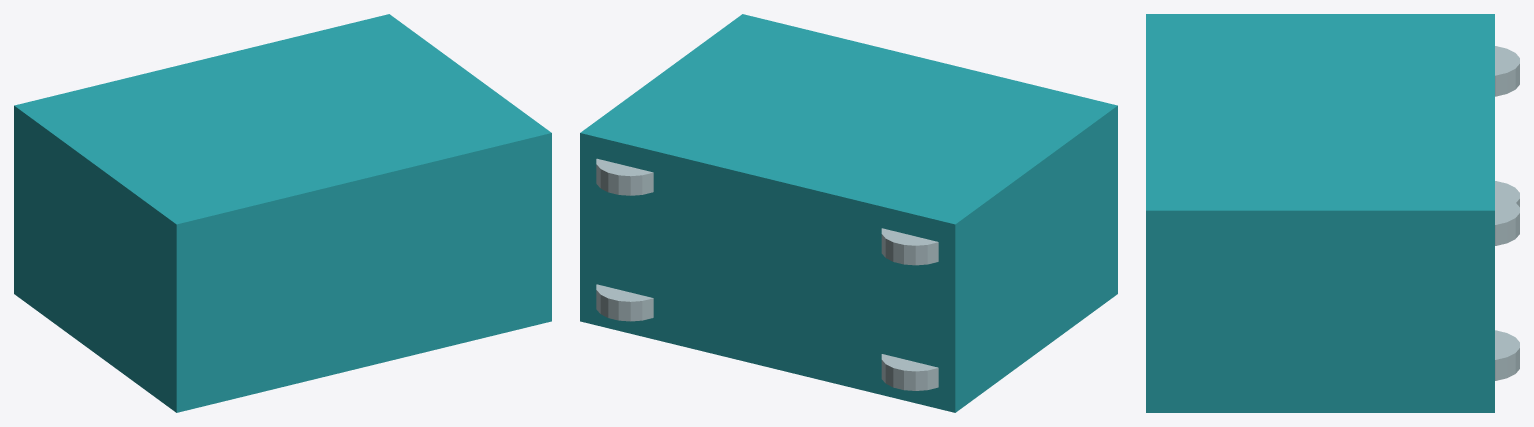
File: tool-cart-kit.glb
3 renders of one model, left to right at view 1: azimuth 30°, elevation 25°; view 2: azimuth 150°, elevation 25°; view 3: azimuth 270°, elevation 25°, orthographic. The views are drawn at different scales.
Parts seen in each view (by area): view 1: world; view 2: world; view 3: world.
Part boxes in pixels (<box>): world: <box>14,14,551,412</box>; world: <box>580,14,1117,412</box>; world: <box>1146,14,1519,412</box>.
Bounding box in the file's own units: 1 × 0.515 × 0.8038.
